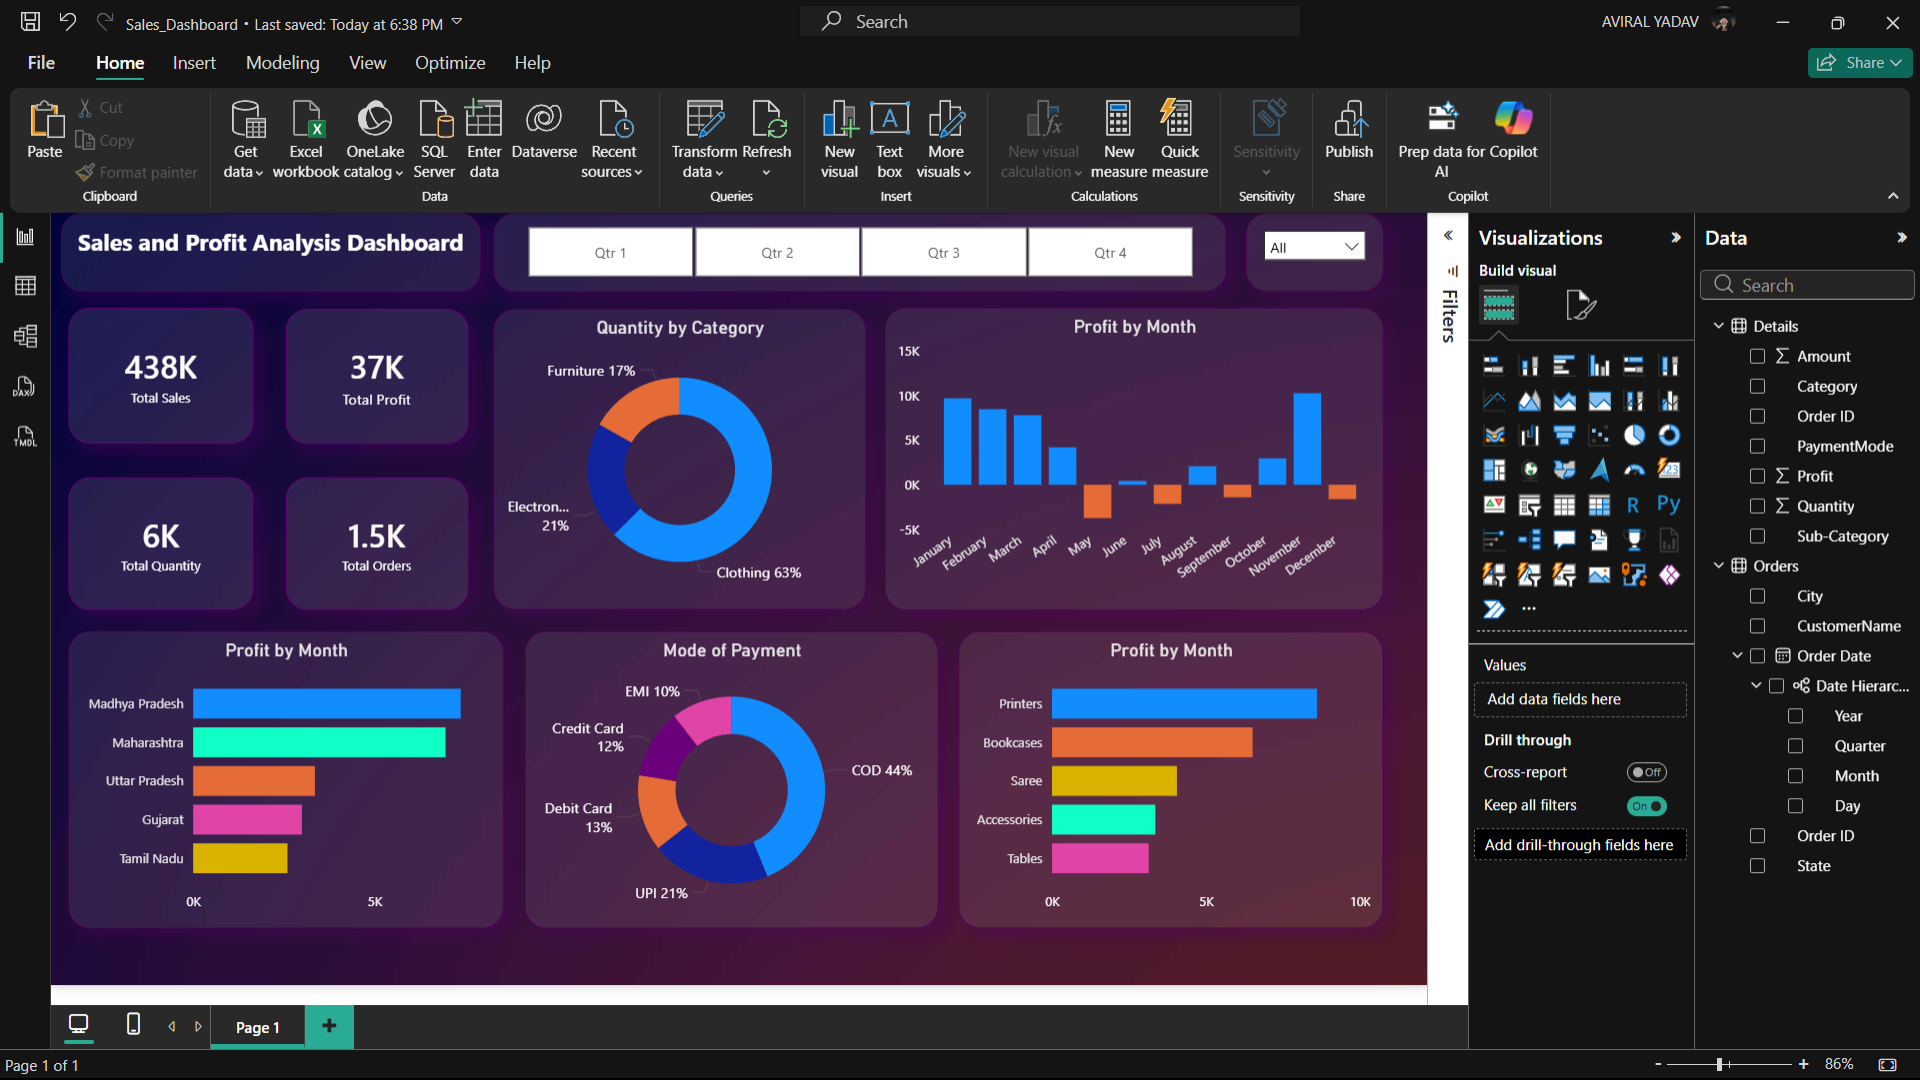

What the dashboard file says about the page in this screenshot:
{"tool":"powerbi","page":{"name":"Page 1","canvas":[1280,720],"ordinal":0},"visuals":[{"type":"textbox","box":[9.3,0,390.7,73.3],"z":0},{"type":"columnChart","title":"Profit by Month","fields":{"Category":["Orders.Order Date.Variation.Date Hierarchy.Month"],"Y":["Sum(Details.Profit)"]},"box":[775.6,88.4,464,281.4],"z":1000},{"type":"barChart","title":"Profit by Month","fields":{"Category":["Details.Sub-Category"],"Y":["Sum(Details.Profit)"]},"box":[844.2,389.5,395.3,276.7],"z":2000},{"type":"donutChart","title":"Quantity by Category","fields":{"Category":["Details.Category"],"Y":["Sum(Details.Quantity)"]},"box":[411.6,89.5,346.5,280.2],"z":3000},{"type":"donutChart","title":"Mode of Payment","fields":{"Y":["Sum(Details.Quantity)"],"Category":["Details.PaymentMode"]},"box":[440.7,389.5,384.9,276.7],"z":4000},{"type":"cardVisual","fields":{"Data":["Sum(Details.Amount)"]},"box":[16.3,88.4,172.1,126.7],"z":5000},{"type":"cardVisual","fields":{"Data":["Sum(Details.Profit)"]},"box":[218.6,89.5,169.8,125.6],"z":6000},{"type":"cardVisual","fields":{"Data":["Sum(Details.Quantity)"]},"box":[16.3,246.5,172.1,123.3],"z":6001},{"type":"cardVisual","fields":{"Data":["CountNonNull(Details.Order ID)"]},"box":[218.6,246.5,169.8,123.3],"z":6002},{"type":"barChart","title":"Profit by Month","fields":{"Y":["Sum(Details.Profit)"],"Category":["Orders.State"]},"box":[16.3,389.5,404.7,276.7],"z":6003},{"type":"slicer","fields":{"Values":["Orders.Order Date.Variation.Date Hierarchy.Quarter"]},"box":[411.6,0,681.4,73.3],"z":6004},{"type":"slicer","fields":{"Values":["Orders.State"]},"box":[1111.6,0,127.9,73.3],"z":6005}]}

Visuals, with their boxes on the page's 1280x720 design canvas (x1, y1, x2, y2). These are canvas units, not pixel positions in the 1920x1080 screenshot, which may show the page scaled, cropped or inside an application window:
textbox: select_region(9, 0, 400, 73)
"Profit by Month" columnChart: select_region(776, 88, 1240, 370)
"Profit by Month" barChart: select_region(844, 390, 1240, 666)
"Quantity by Category" donutChart: select_region(412, 90, 758, 370)
"Mode of Payment" donutChart: select_region(441, 390, 826, 666)
cardVisual - Sum(Details.Amount): select_region(16, 88, 188, 215)
cardVisual - Sum(Details.Profit): select_region(219, 90, 388, 215)
cardVisual - Sum(Details.Quantity): select_region(16, 246, 188, 370)
cardVisual - CountNonNull(Details.Order ID): select_region(219, 246, 388, 370)
"Profit by Month" barChart: select_region(16, 390, 421, 666)
slicer - Orders.Order Date.Variation.Date Hierarchy.Quarter: select_region(412, 0, 1093, 73)
slicer - Orders.State: select_region(1112, 0, 1240, 73)
